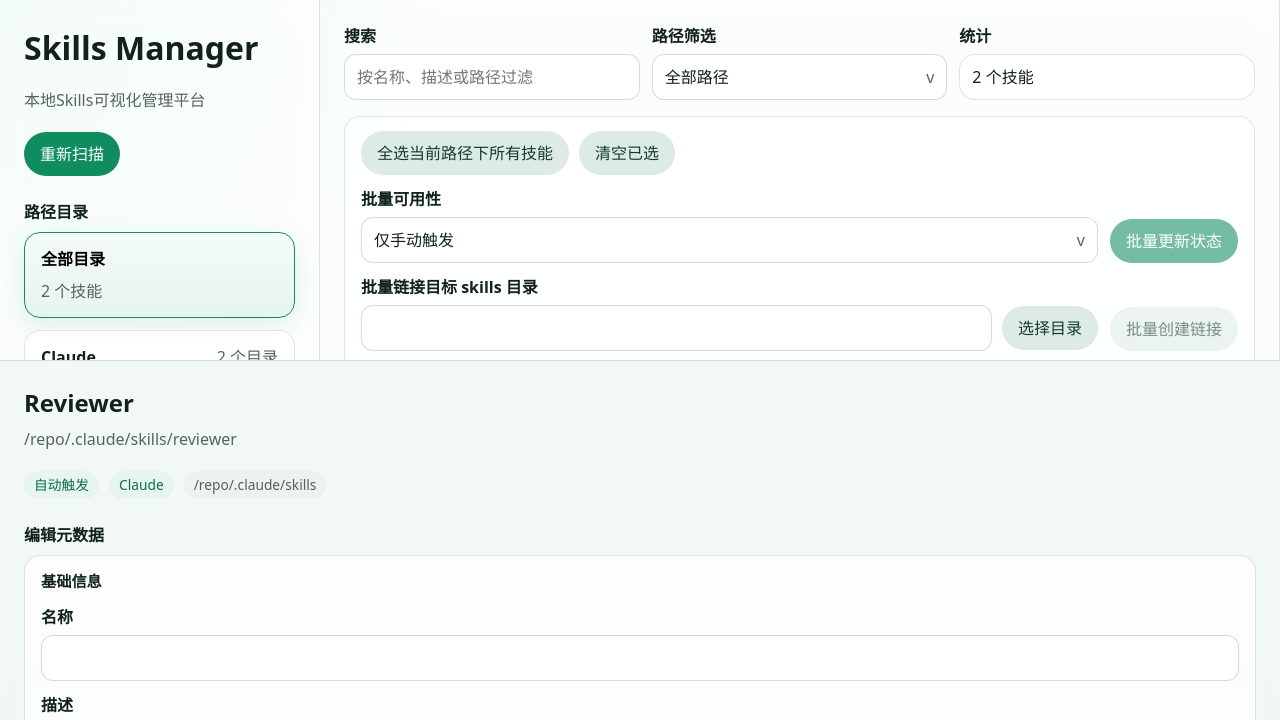
Test: App › copies the selected skill path on double click
Expected: the heading "Skills Manager" is shown, [24, 24, 295, 72]
Double-click the button with id "selected-skill-path" at (130, 438), box [24, 426, 237, 450]
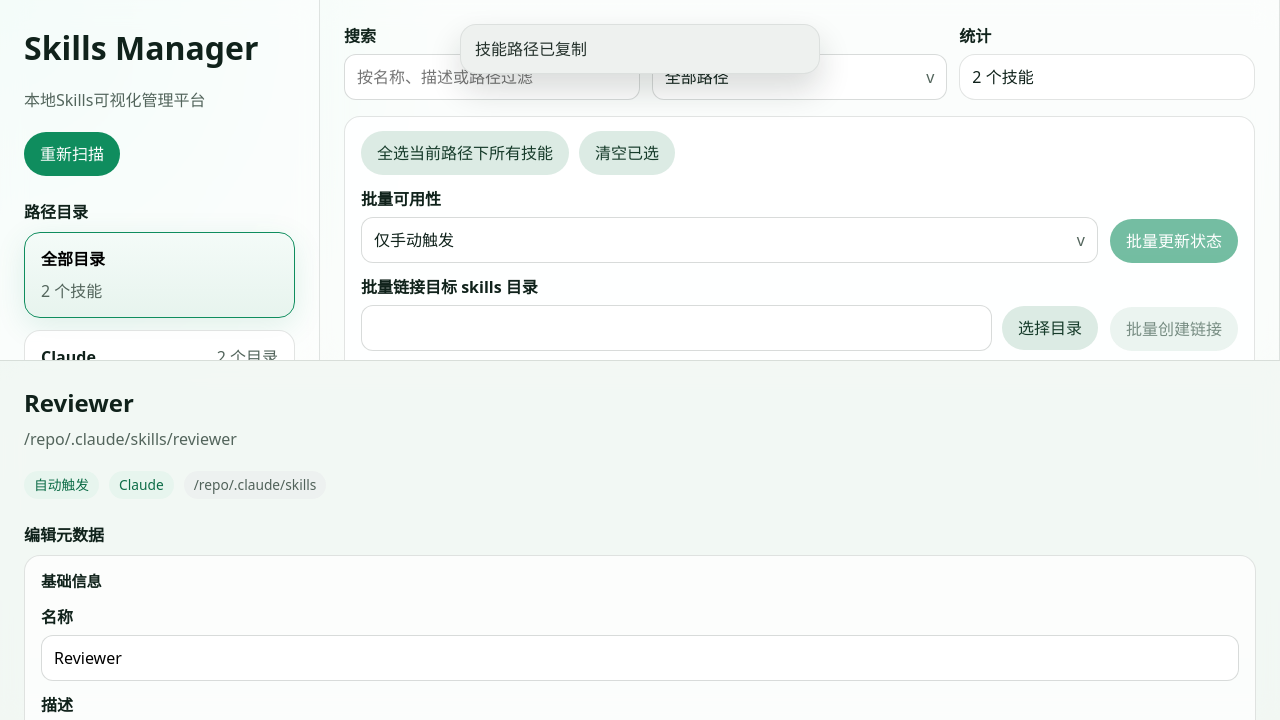
Now the text "技能路径已复制" is shown, box [460, 24, 820, 74]
